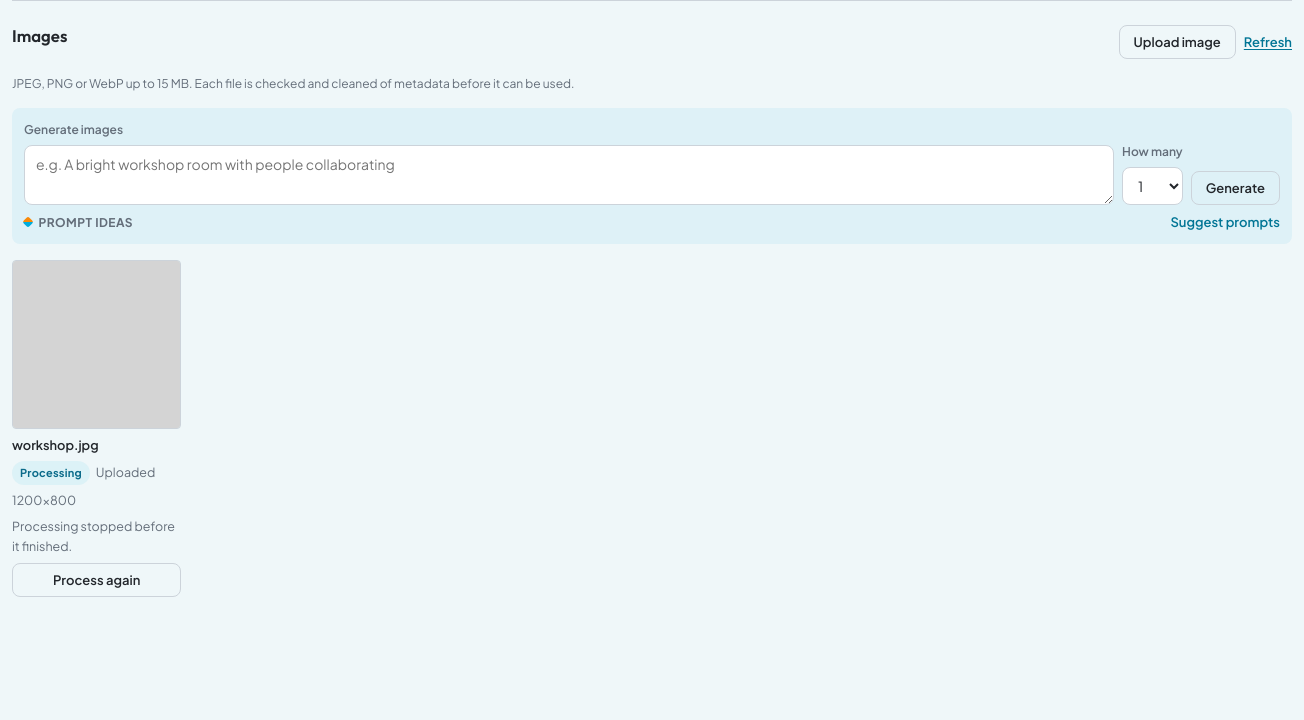
Test case: AssetLibrary › processes a stalled pending asset again
Check: the text "Processing stopped before it finished." is shown, box [12,517,181,557]
Click the button with aria-label "Process workshop.jpg again" at (97, 580), box [12,563,181,597]
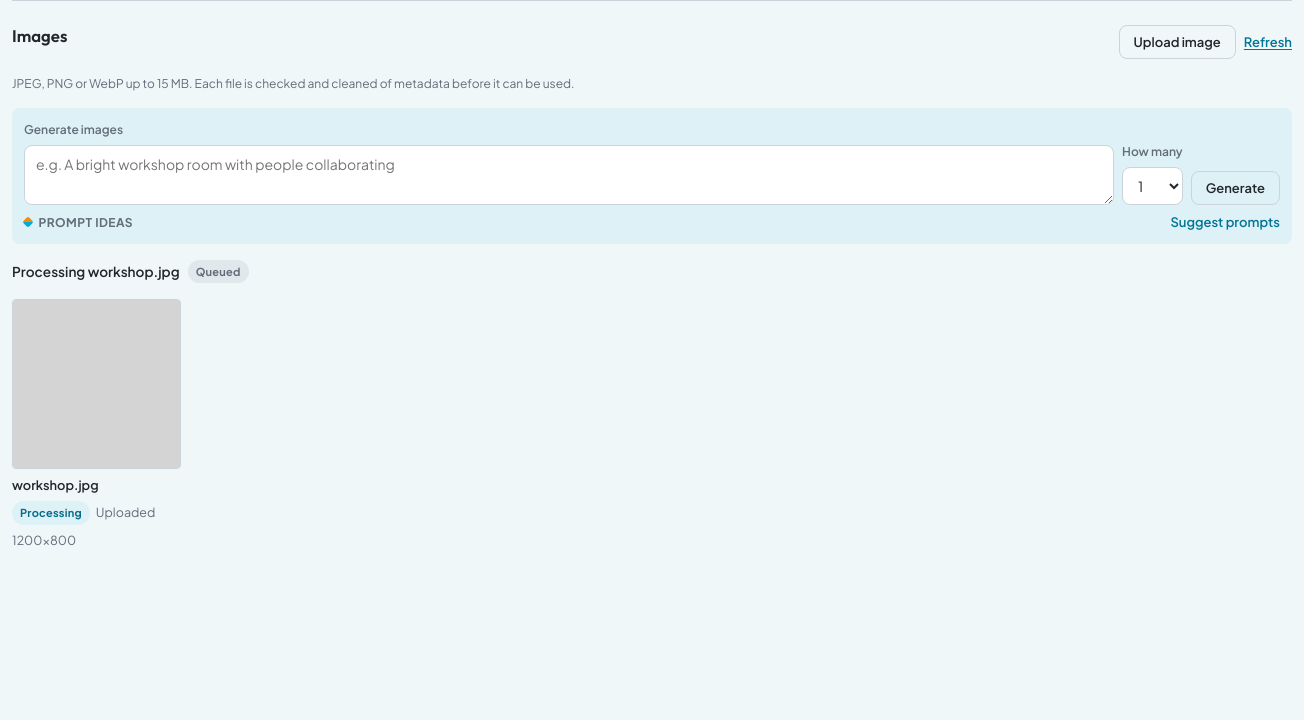
Check: the text "Processing workshop.jpg" is shown, box [12,261,180,282]
